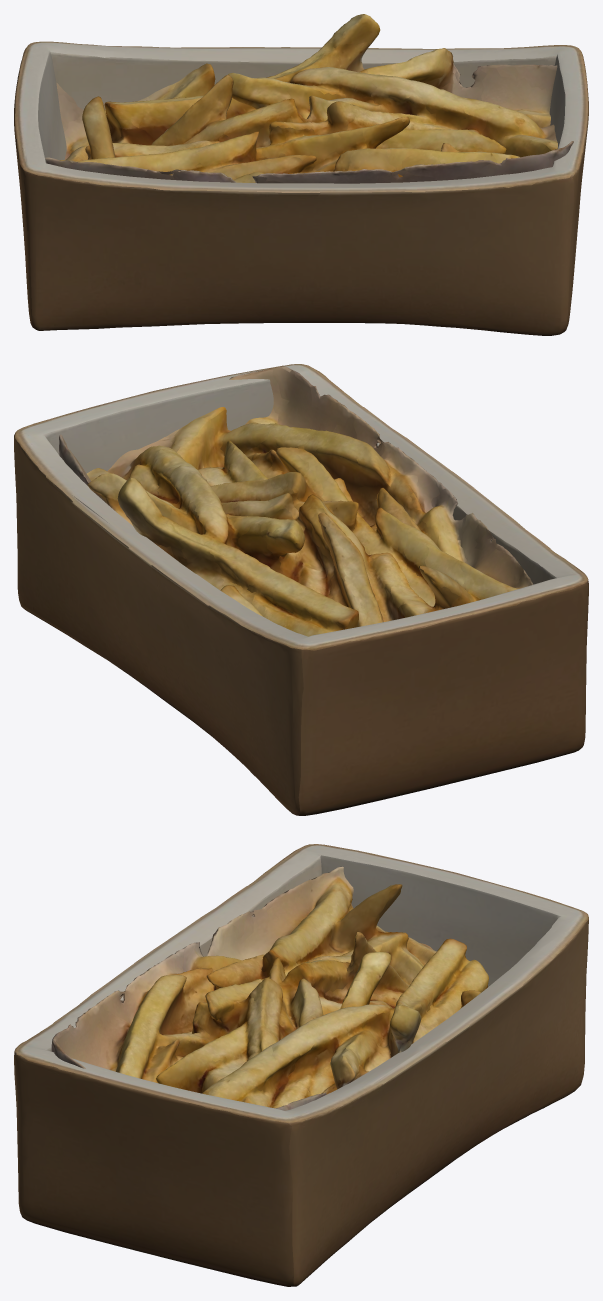
The model's file is French.fries.01.glb.
The picture shows the model from 3 angles, top to bottom: view 1: azimuth 30°, elevation 25°; view 2: azimuth 150°, elevation 25°; view 3: azimuth 270°, elevation 25°; orthographic projection. The views are drawn at different scales.
Visible parts, largest first — view 1: /Root/Scenes/Scene/Object_308/Object_312/Object_313/Submesh_, /Root/Scenes/Scene/Object_308/Object_309/Submesh_0; view 2: /Root/Scenes/Scene/Object_308/Object_312/Object_313/Submesh_, /Root/Scenes/Scene/Object_308/Object_309/Submesh_0; view 3: /Root/Scenes/Scene/Object_308/Object_312/Object_313/Submesh_, /Root/Scenes/Scene/Object_308/Object_309/Submesh_0.
Part boxes in pixels (bbox=[...]): /Root/Scenes/Scene/Object_308/Object_312/Object_313/Submesh_: bbox=[14, 41, 588, 335]; /Root/Scenes/Scene/Object_308/Object_309/Submesh_0: bbox=[45, 14, 573, 183]; /Root/Scenes/Scene/Object_308/Object_312/Object_313/Submesh_: bbox=[14, 364, 588, 815]; /Root/Scenes/Scene/Object_308/Object_309/Submesh_0: bbox=[59, 366, 533, 636]; /Root/Scenes/Scene/Object_308/Object_312/Object_313/Submesh_: bbox=[14, 844, 588, 1286]; /Root/Scenes/Scene/Object_308/Object_309/Submesh_0: bbox=[51, 866, 488, 1110].
Bounding box in the file's own units: 0.2357 × 0.0818 × 0.2048.
2 materials, 2 textured.
